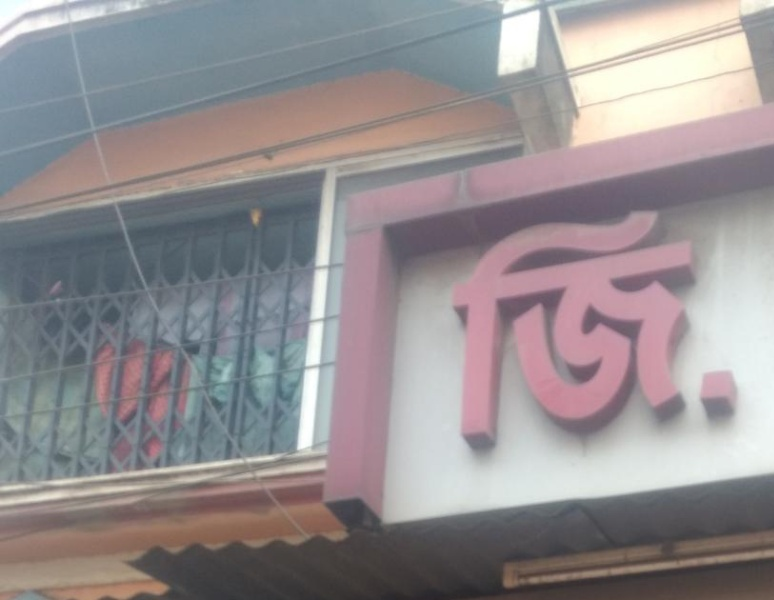text: (465, 191, 480, 459), (481, 191, 496, 459), (497, 191, 512, 459), (513, 191, 528, 459), (529, 191, 544, 459), (545, 191, 560, 459), (561, 191, 576, 459), (577, 191, 592, 459), (593, 191, 608, 459), (609, 191, 624, 459), (625, 191, 640, 459), (641, 191, 656, 459), (657, 191, 672, 459), (673, 191, 688, 459), (689, 191, 704, 459), (705, 191, 720, 459), (721, 191, 736, 459), (737, 191, 752, 459), (459, 191, 464, 459), (753, 191, 758, 459)
